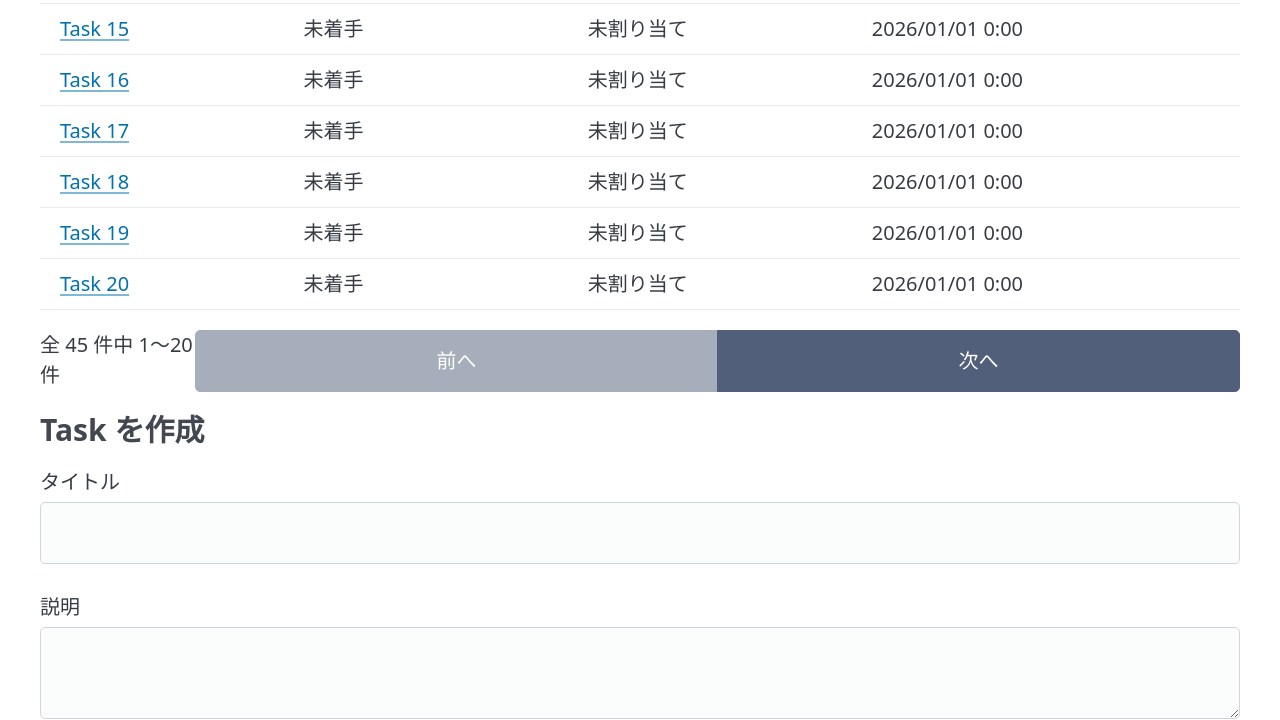
Test case: Task のページネーション › 20 件ずつ表示し、次へ・前へでページを移る
(page scrolled)
Expected: the text "全 45 件中 1〜20 件" is shown, [40,330,195,392]
Expected: the button "前へ" is disabled, [195,330,718,392]
Click the button "次へ".
click(978, 360)  # box [717,330,1240,392]
(page scrolled)
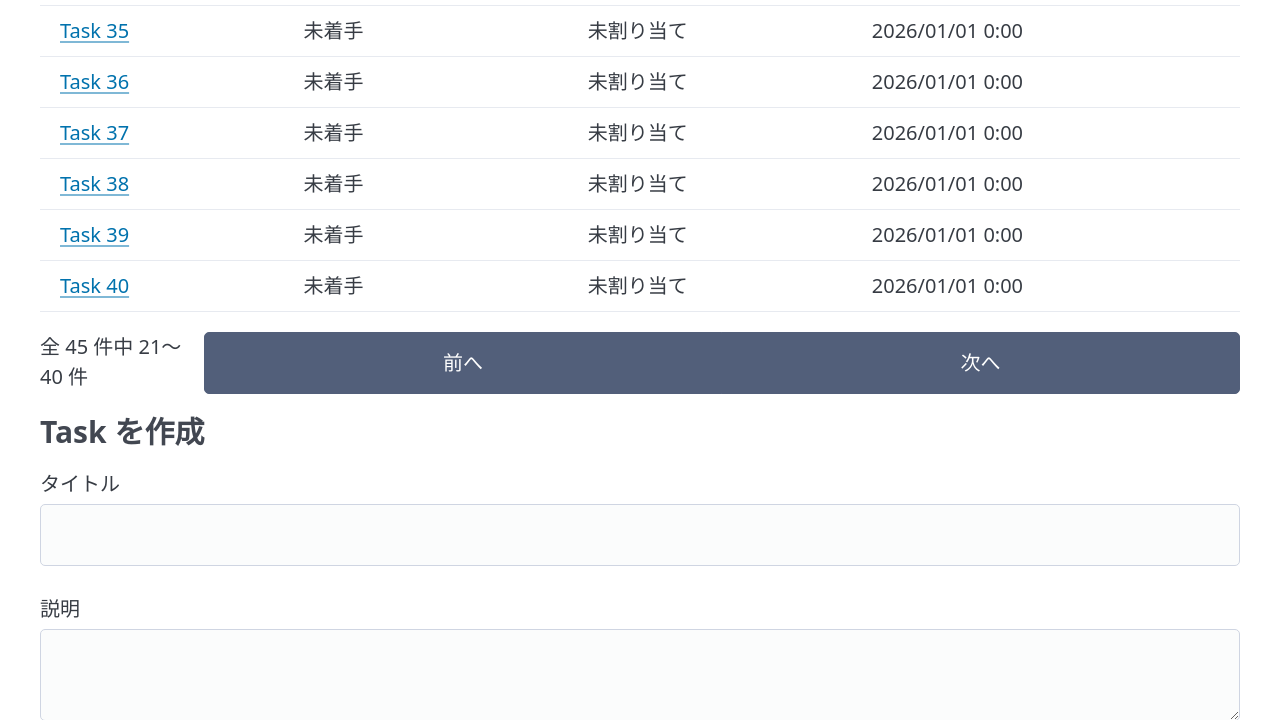
Now the text "全 45 件中 21〜40 件" is shown, box [40,332,204,394]
Click the button "次へ".
click(981, 362)  # box [721,332,1240,394]
(page scrolled)
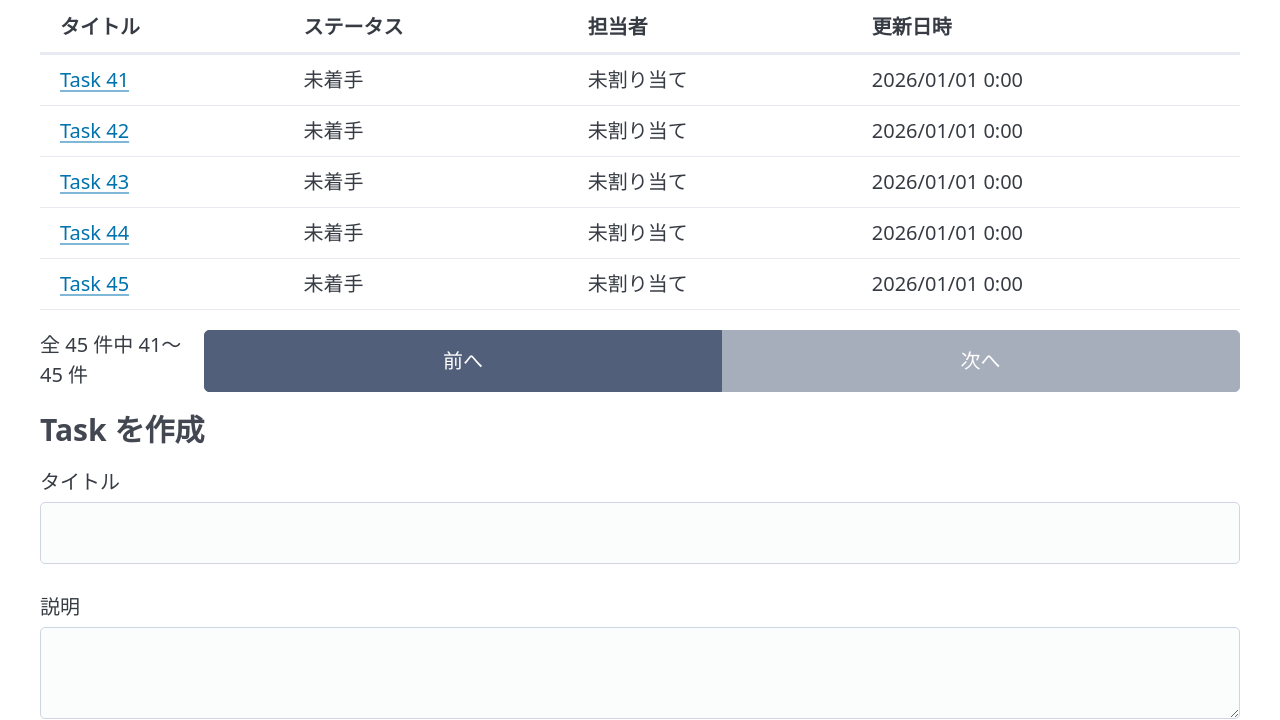
Now the cell "Task 41" is shown, box [40,53,284,105]
Now the text "全 45 件中 41〜45 件" is shown, box [40,330,204,392]
Now the button "次へ" is disabled, box [721,330,1240,392]
Click the button "前へ".
click(463, 360)  # box [204,330,722,392]
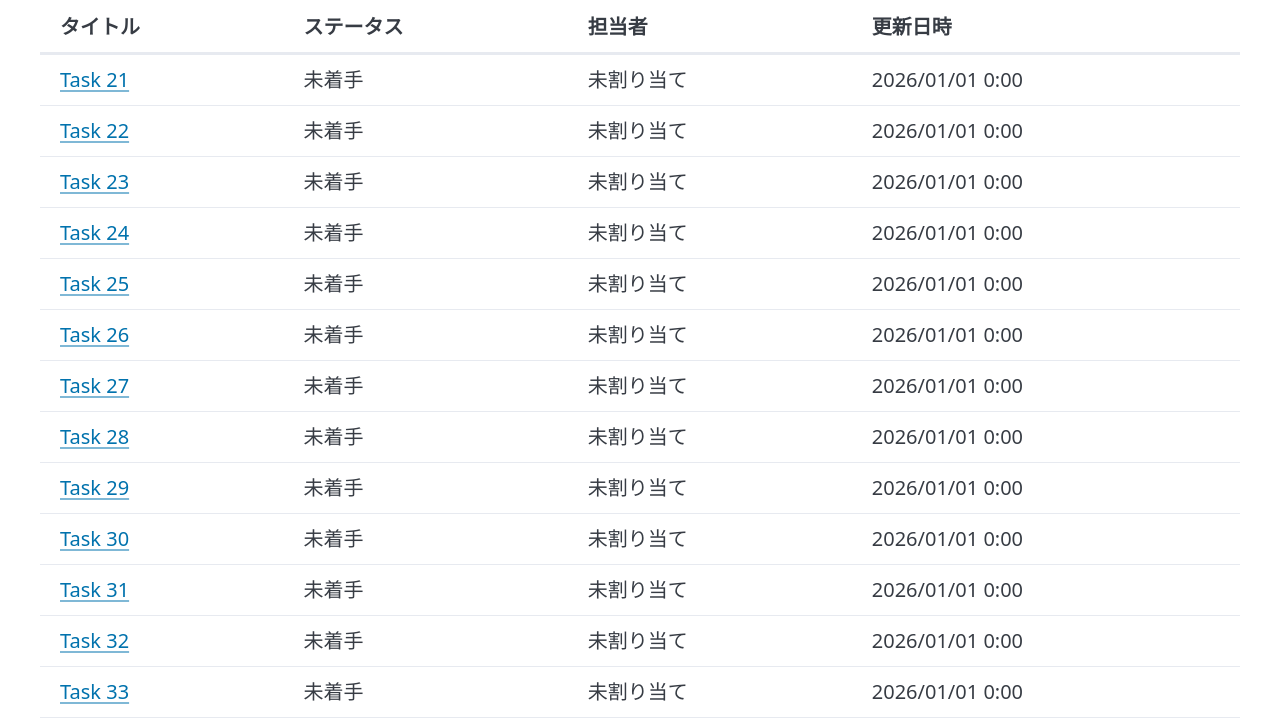
Now the cell "Task 21" is shown, box [40,53,284,105]
